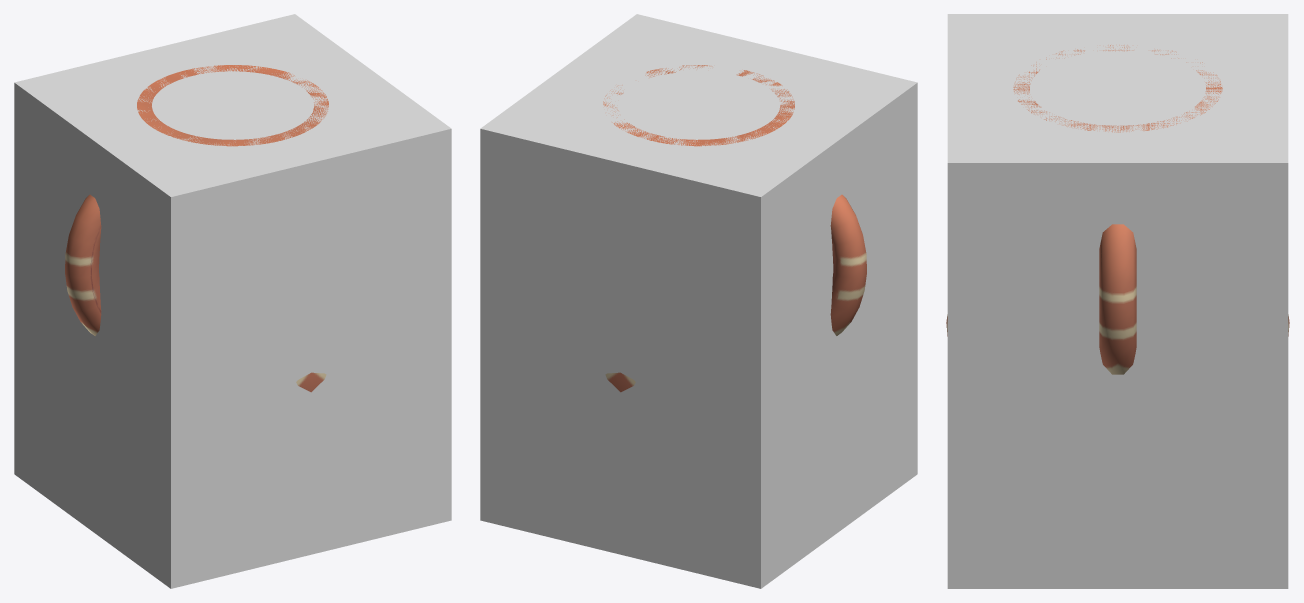
The model's file is SD_P08_Pottery.fbx.
The picture shows the model from 3 angles, left to right: view 1: azimuth 30°, elevation 25°; view 2: azimuth 150°, elevation 25°; view 3: azimuth 270°, elevation 25°; orthographic projection. The views are drawn at different scales.
Parts seen in each view (by area): view 1: COL_Body, Body; view 2: COL_Body, Body; view 3: COL_Body, Body.
Boxes of the visible parts, left/top/right/bottom form: COL_Body: left=14, top=14, right=451, bottom=588; Body: left=65, top=65, right=328, bottom=392; COL_Body: left=480, top=14, right=917, bottom=588; Body: left=603, top=65, right=866, bottom=392; COL_Body: left=947, top=14, right=1288, bottom=588; Body: left=946, top=45, right=1289, bottom=374.
Bounding box in the file's own units: 0.7069 × 0.8 × 0.584.
